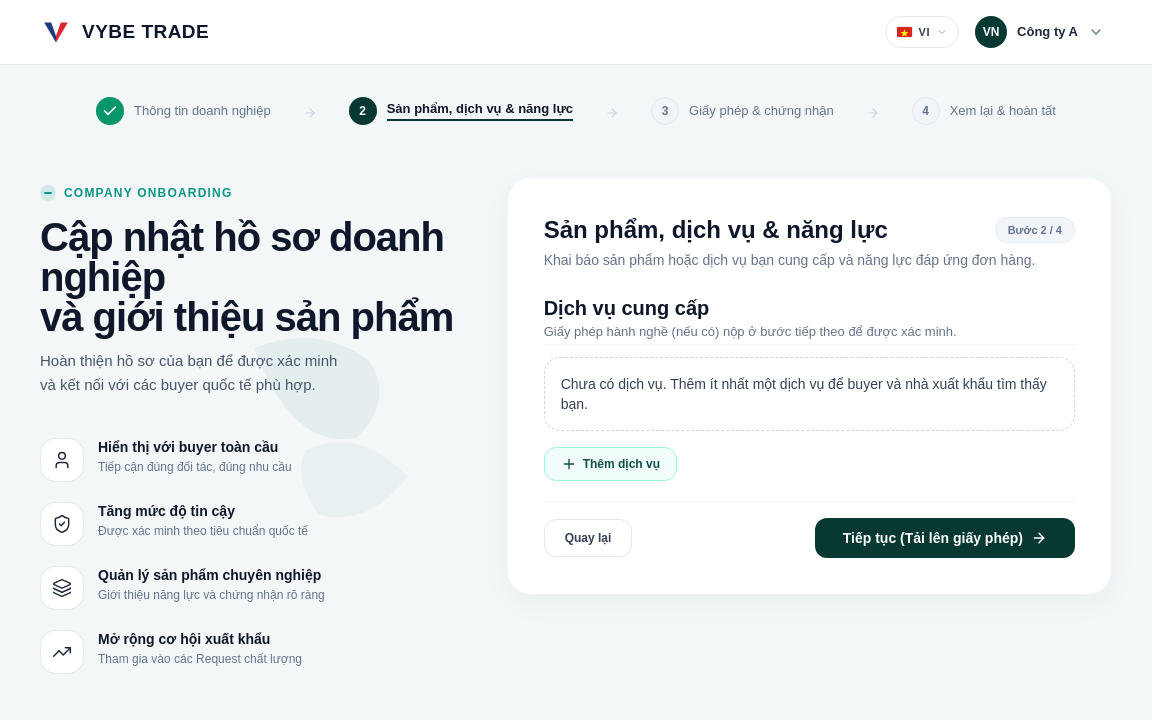
Test case: SellerOnboarding — sản phẩm hay dịch vụ (U2) › chỉ làm dịch vụ mà chưa thêm dịch vụ nào thì không qua được bước 2
Click the button "Tiếp tục (Tải lên giấy phép)".
click(945, 538)  # box 815,518 -> 1075,558
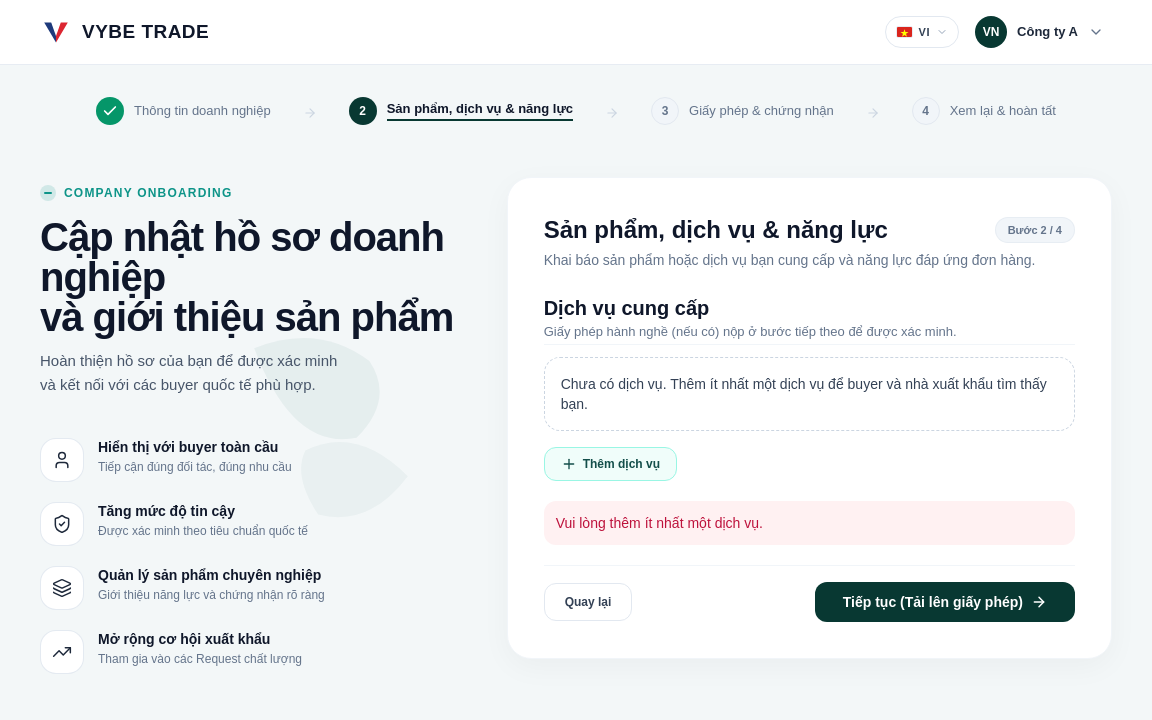
Check: the message "Vui lòng thêm ít nhất một dịch vụ." is shown, box 544,501 -> 1075,545
